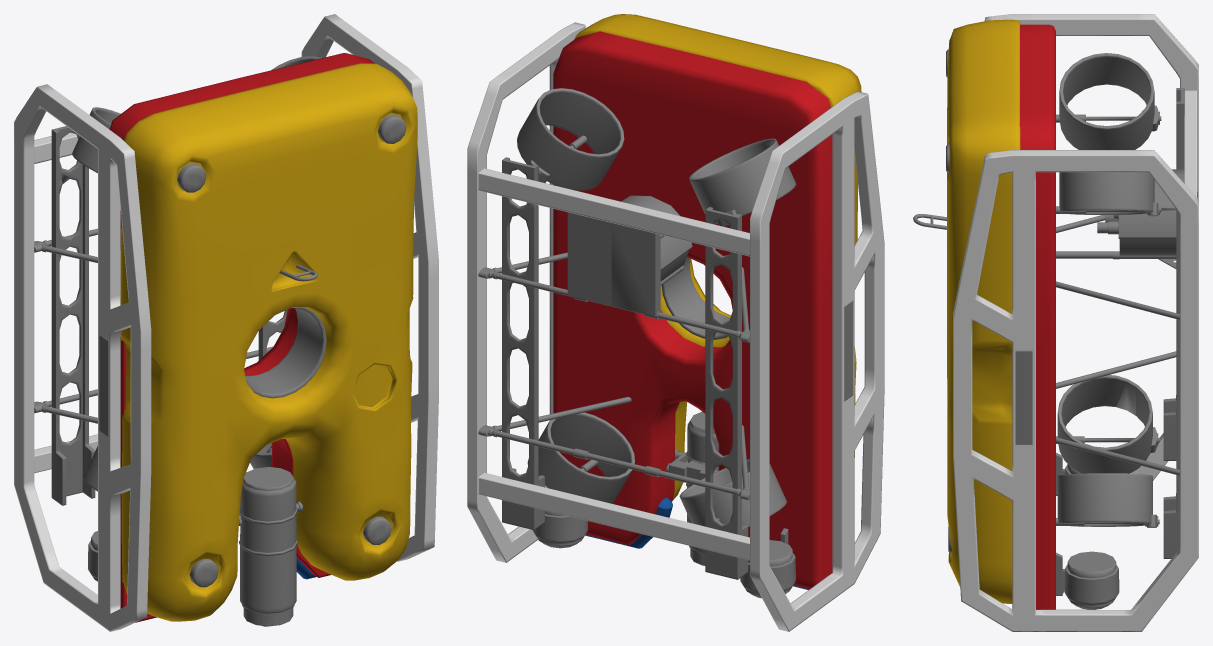
The model's file is falcon_frame_color5.obj.
The picture shows the model from 3 angles, left to right: view 1: azimuth 30°, elevation 25°; view 2: azimuth 150°, elevation 25°; view 3: azimuth 270°, elevation 25°; orthographic projection. The views are drawn at different scales.
Size of the model in its own units: 1.79 by 3.02 by 1.53.
